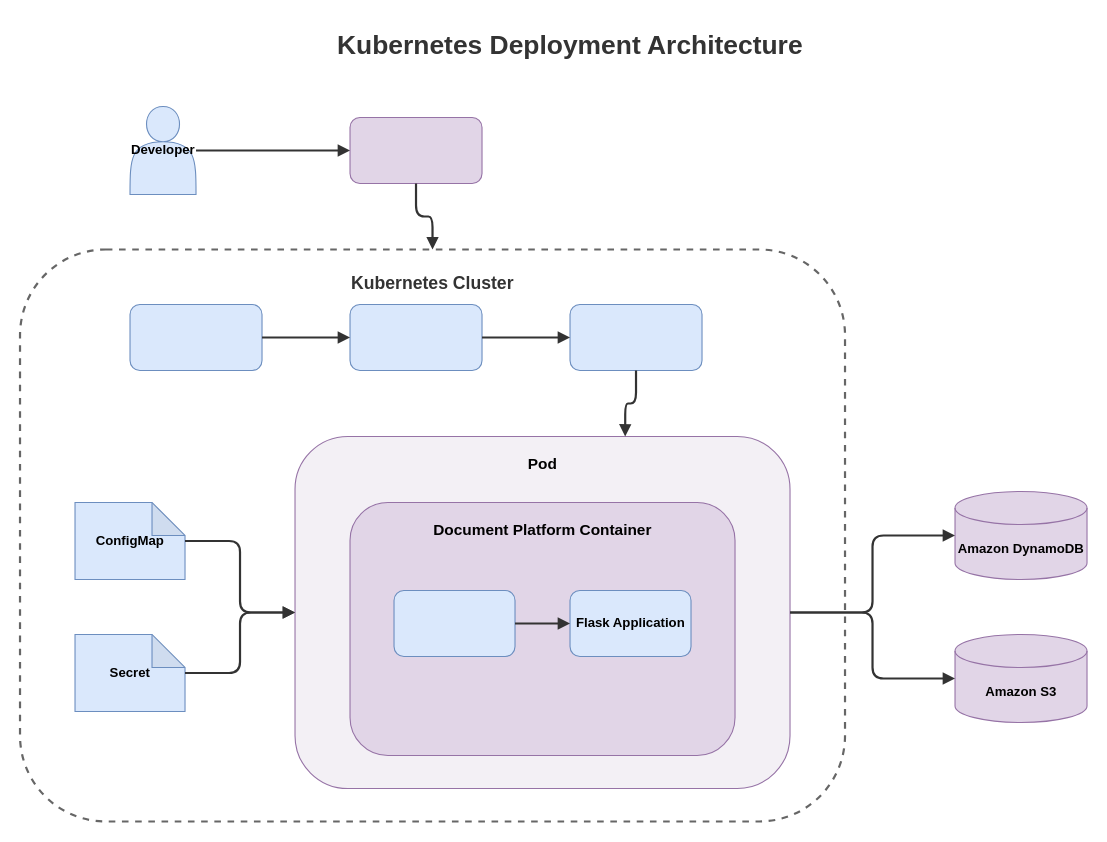
Some shapes in this 1107 by 842 pixel diagram are drawn without their labels. Here are the shapes that lost their labels. From the top down, the centre of each, then its label:
At point 415,149: "Helm Chart".
At point 195,336: "Service".
At point 415,336: "Deployment".
At point 635,336: "ReplicaSet".
At point 454,622: "Gunicorn".
